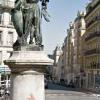Statue: (5, 4, 58, 56)
